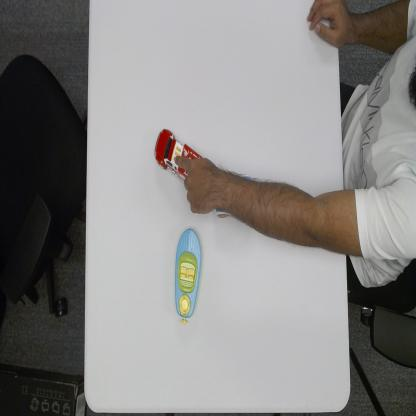Arm: (217, 166, 346, 254)
Boat: (174, 227, 203, 326)
Firetruck: (153, 124, 199, 188)
Hand: (172, 152, 218, 218), (305, 0, 338, 50)
